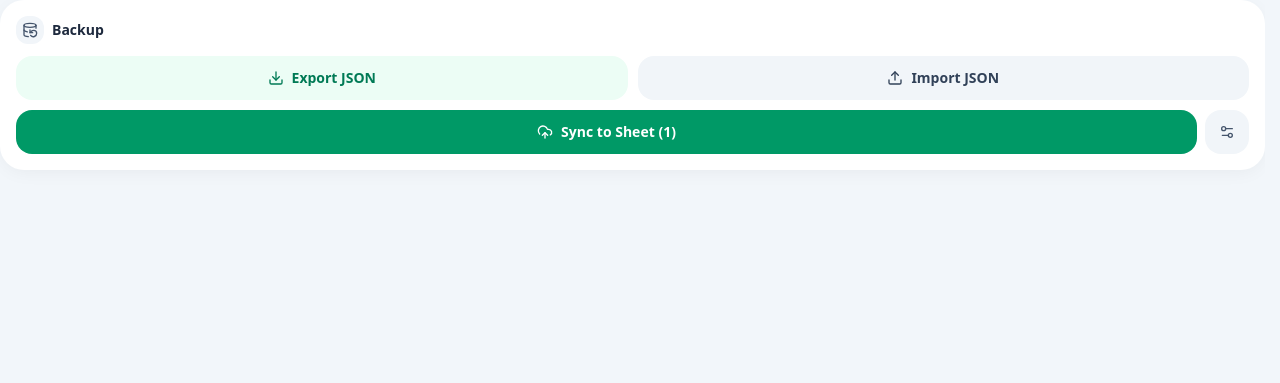
Scenario: BackupControls Google Sheet Sync › saves sync settings and performs 2-way sync (pull remote + push local) with Bearer auth
The width and height of the screenshot is (1280, 383).
Click the button named "sync settings". click: (1227, 132)
box: top-left (1205, 110), bottom-right (1249, 154)
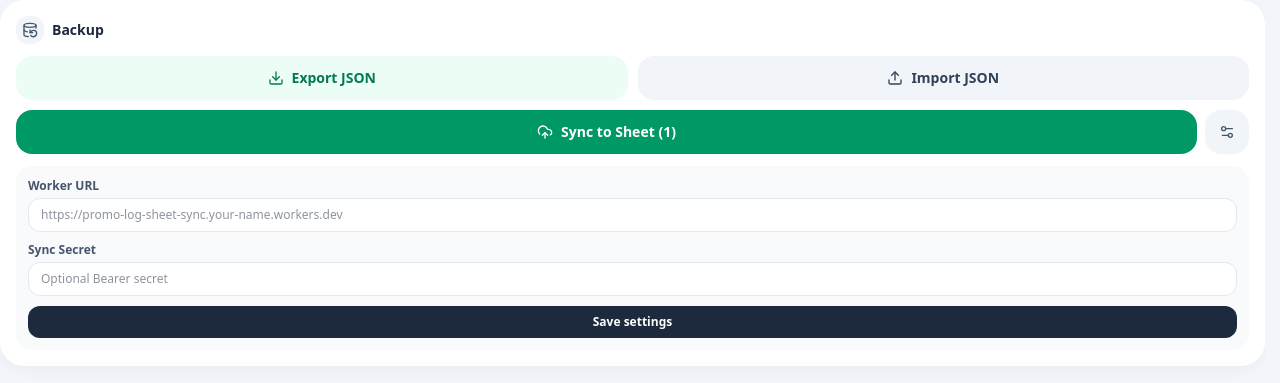
Type "https://my-worker.example.workers.dev/" into the field labelled "Worker URL". click: (632, 215)
box: top-left (28, 198), bottom-right (1237, 232)
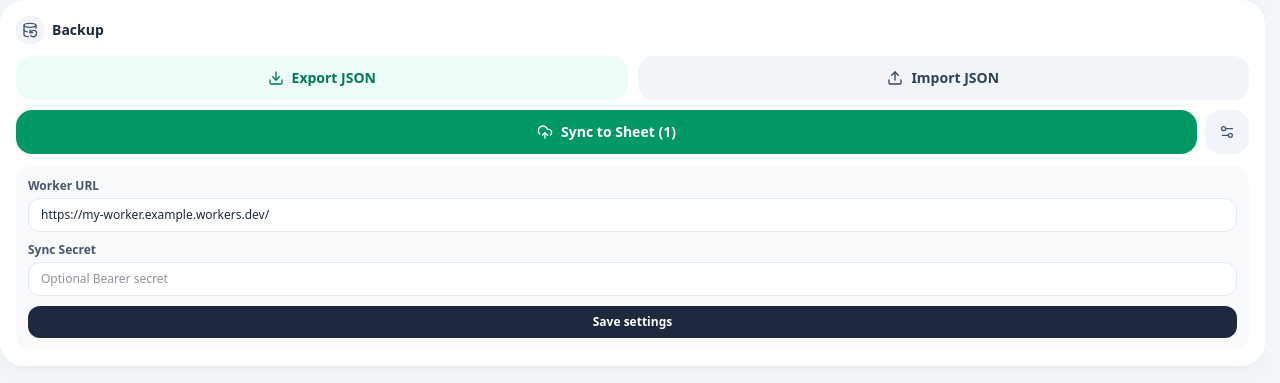
Type "top-secret" into the password field labelled "Sync Secret". click: (632, 279)
box: top-left (28, 262), bottom-right (1237, 296)
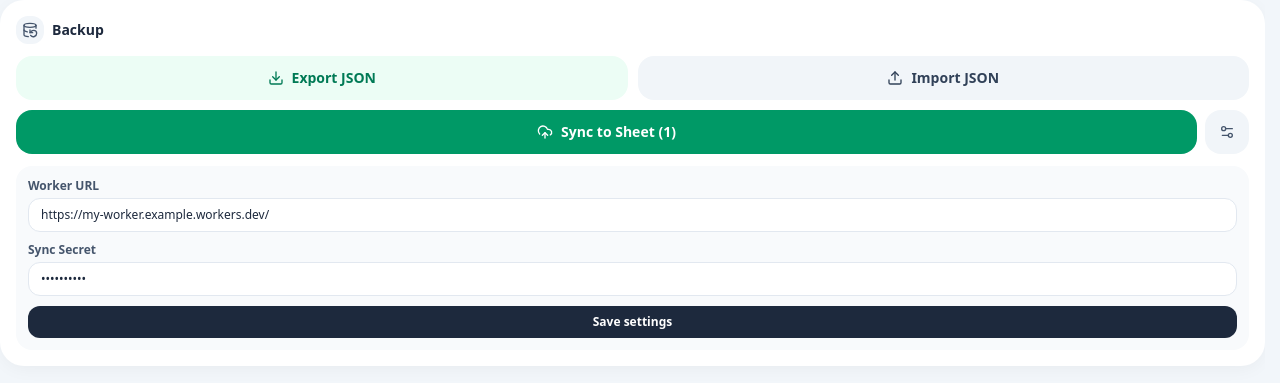
Click the button "Save settings". click: (632, 322)
box: top-left (28, 306), bottom-right (1237, 338)
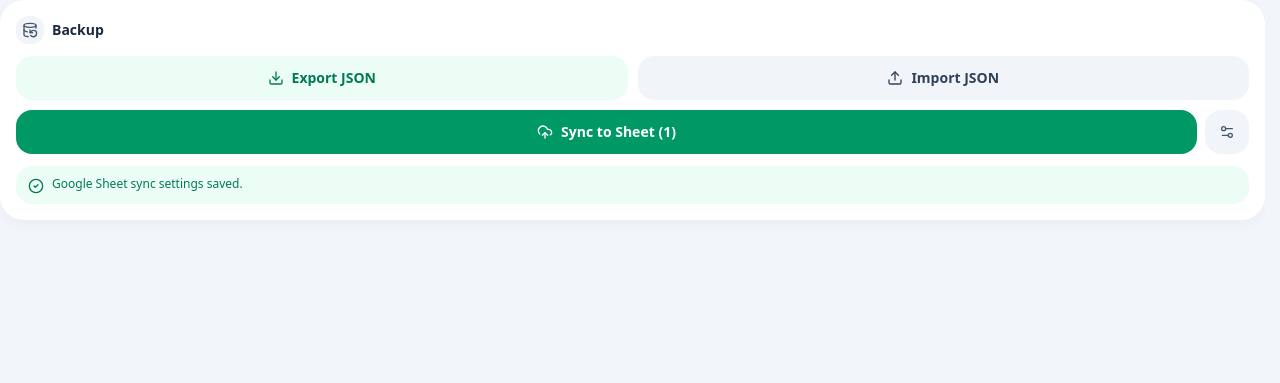
Click the button "Sync to Sheet (1)". click: (606, 132)
box: top-left (16, 110), bottom-right (1197, 154)
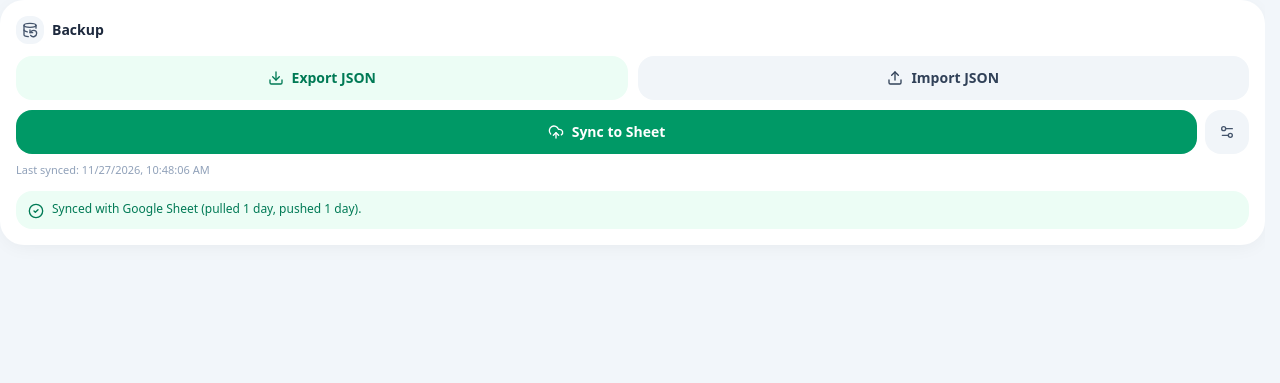
Now the message shows "Synced with Google Sheet (pulled 1 day, pushed 1 day)", box top-left (52, 200), bottom-right (361, 216)
